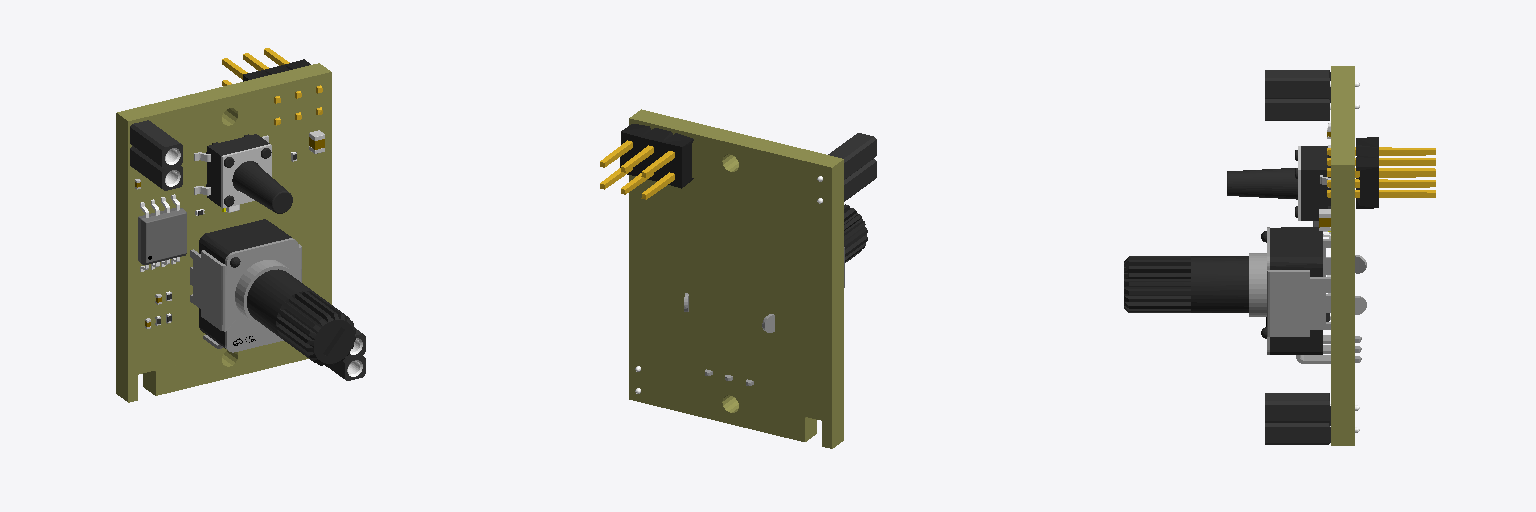
Rendered from OBJ_PCB_minimo.obj.
3 views of the same model, side by side, from view 1: azimuth 30°, elevation 25°; view 2: azimuth 150°, elevation 25°; view 3: azimuth 270°, elevation 25° (orthographic).
Size of the model in its own units: 97.6 by 129 by 129.